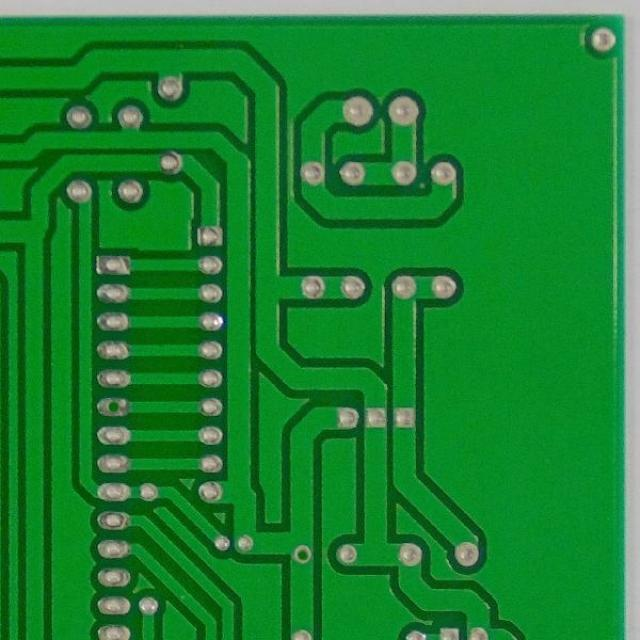Missing_Hole: (97, 396, 130, 416), (292, 544, 312, 564)
